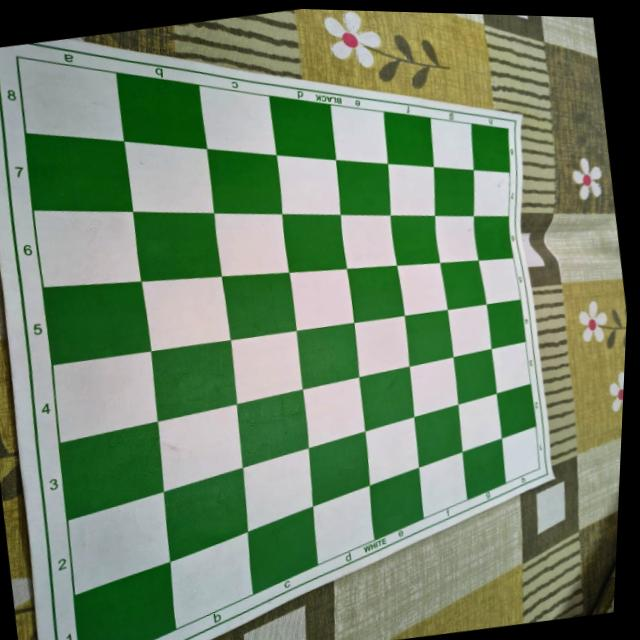square: (11, 40, 127, 156), (60, 489, 178, 599), (19, 116, 137, 226), (53, 420, 170, 530), (28, 193, 147, 298), (44, 348, 162, 446), (36, 270, 152, 368), (120, 127, 217, 226), (159, 469, 255, 569), (114, 59, 210, 158), (167, 530, 262, 628), (66, 564, 183, 640), (128, 198, 223, 290), (150, 402, 245, 494), (242, 504, 326, 596), (139, 268, 231, 352), (150, 338, 239, 424), (198, 73, 282, 161), (204, 134, 288, 222), (237, 447, 320, 534), (231, 390, 313, 473), (210, 203, 293, 284), (266, 83, 342, 166), (303, 429, 378, 511), (232, 328, 308, 403), (274, 145, 346, 221), (311, 484, 375, 565), (280, 205, 350, 278), (361, 468, 430, 542), (295, 324, 365, 396), (221, 267, 291, 339), (353, 363, 421, 437), (286, 260, 357, 329), (326, 94, 393, 166), (330, 154, 397, 223), (337, 206, 402, 274), (303, 376, 365, 447), (352, 313, 415, 378), (379, 157, 442, 221), (379, 104, 440, 169), (409, 405, 468, 469), (365, 417, 420, 485), (346, 260, 408, 320), (399, 308, 458, 370), (386, 209, 445, 271), (418, 451, 467, 517), (427, 162, 481, 220), (465, 117, 517, 174), (450, 349, 502, 406), (410, 356, 458, 417), (462, 438, 506, 499), (397, 263, 448, 315), (458, 393, 502, 451), (528, 479, 573, 535), (472, 209, 519, 261), (440, 259, 487, 309), (448, 304, 492, 356), (430, 118, 473, 169), (502, 426, 540, 482), (497, 383, 536, 437), (491, 341, 530, 393), (436, 215, 479, 262), (478, 257, 520, 303), (486, 299, 525, 348), (473, 169, 509, 215)
